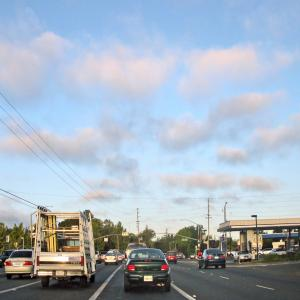Vehicle-registration-plate: (144, 276, 154, 283), (57, 272, 65, 277), (216, 257, 220, 259)
